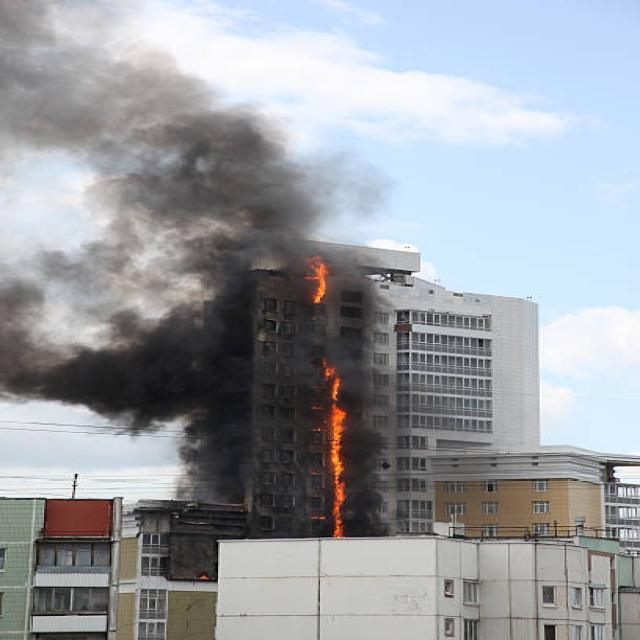Fire: (302, 252, 366, 535)
Smoke: (7, 5, 316, 244), (6, 254, 322, 477)
